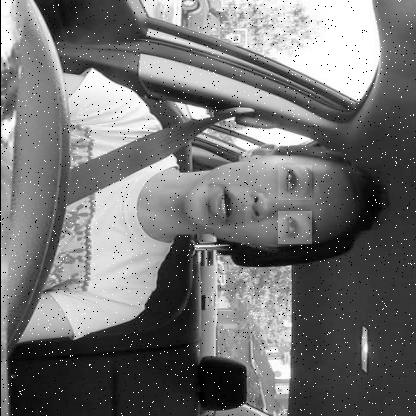seatbelt: (64, 128, 390, 281)
